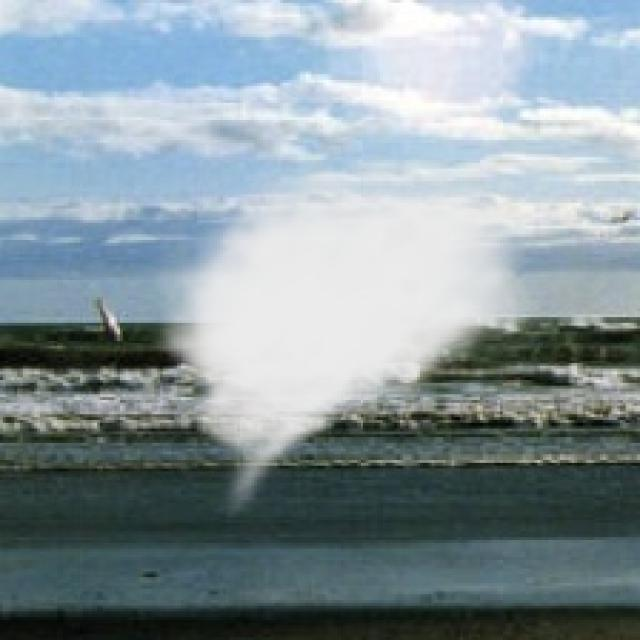Smoke: (146, 160, 548, 520)
